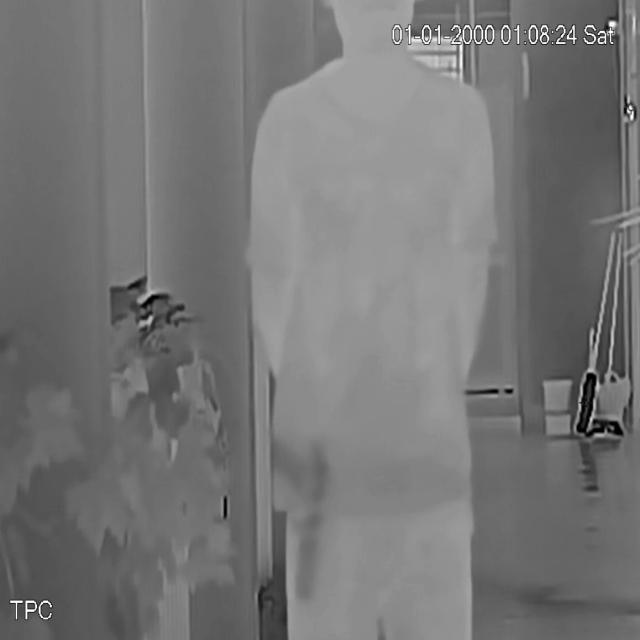Weapon: (266, 429, 344, 610)
